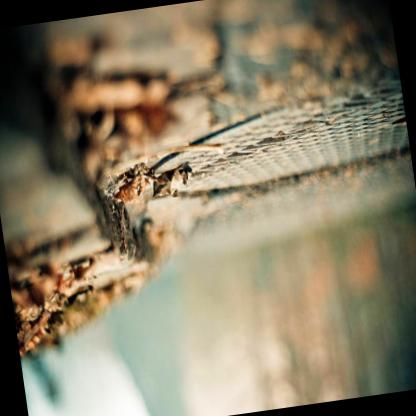manholes: (136, 72, 416, 240)
